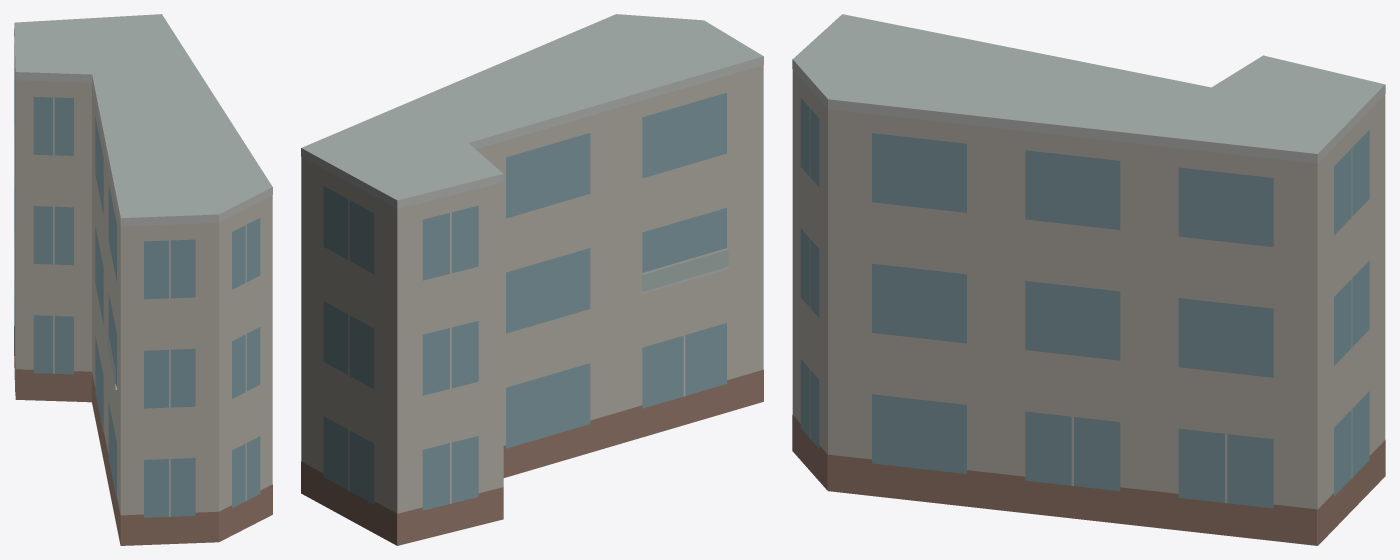
Rendered from survey-upis-32495759.glb.
The picture shows the model from 3 angles, left to right: view 1: azimuth 30°, elevation 25°; view 2: azimuth 150°, elevation 25°; view 3: azimuth 270°, elevation 25°; orthographic projection. The views are drawn at different scales.
Visible parts, largest first — view 1: survey-upis-32495759.tmp; view 2: survey-upis-32495759.tmp; view 3: survey-upis-32495759.tmp.
Part boxes in pixels (box(x1,y1,x2,y2)): survey-upis-32495759.tmp: box(14, 14, 272, 545); survey-upis-32495759.tmp: box(301, 14, 763, 545); survey-upis-32495759.tmp: box(792, 14, 1385, 545).
Size of the model in its own units: 7.52 by 9.8 by 13.45.
